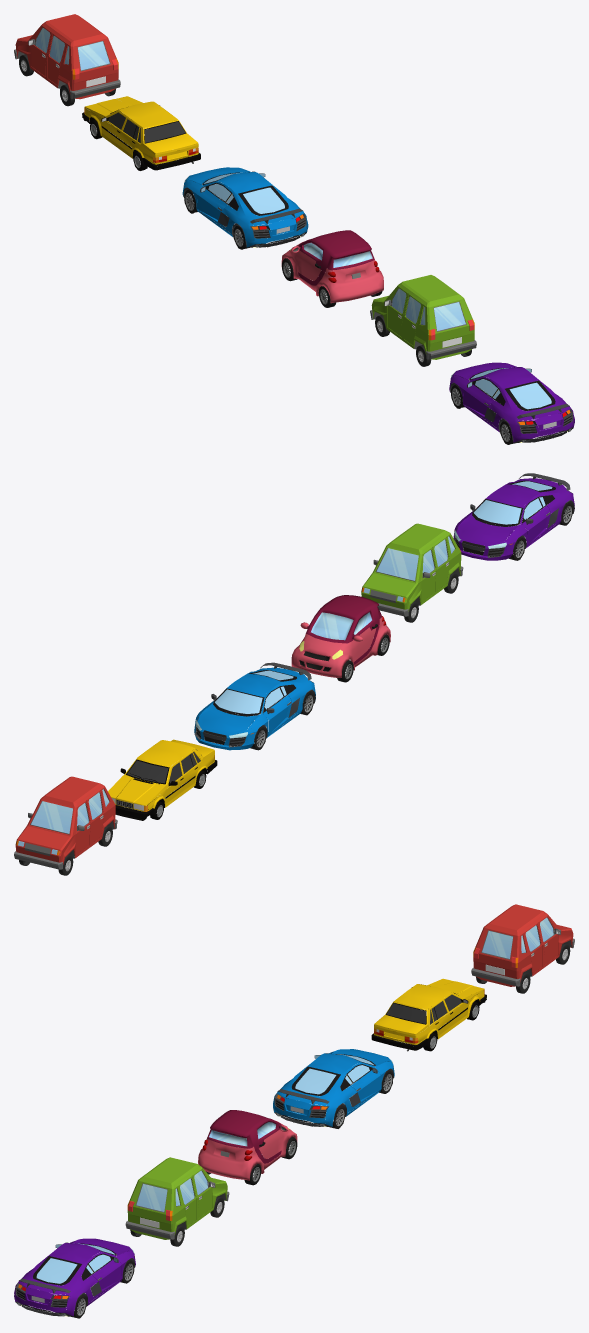
The model's file is Cars_compressed.glb.
The picture shows the model from 3 angles, top to bottom: view 1: azimuth 30°, elevation 25°; view 2: azimuth 150°, elevation 25°; view 3: azimuth 330°, elevation 25°; orthographic projection. The views are drawn at different scales.
Visible parts, largest first — view 1: car-3, car-6, car-5, car-1, car-2, car-4; view 2: car-3, car-6, car-1, car-5, car-4, car-2; view 3: car-6, car-3, car-1, car-5, car-2, car-4.
Boxes of the visible parts, x1,y1,x2,y2 form: car-3: (182, 167, 308, 247); car-6: (449, 362, 574, 442); car-5: (370, 275, 476, 359); car-1: (14, 14, 120, 99); car-2: (82, 96, 200, 170); car-4: (281, 230, 383, 303); car-3: (194, 662, 315, 750); car-6: (453, 473, 574, 560); car-1: (14, 776, 117, 869); car-5: (361, 523, 463, 616); car-4: (291, 595, 390, 677); car-2: (108, 739, 217, 820); car-6: (14, 1238, 135, 1316); car-3: (273, 1049, 394, 1126); car-1: (471, 904, 574, 986); car-5: (125, 1157, 229, 1239); car-2: (371, 978, 486, 1051); car-4: (198, 1110, 297, 1180).
Bounding box in the file's own units: 2.26 × 1.94 × 29.24.
Materials: 7 (2 with a texture image).
